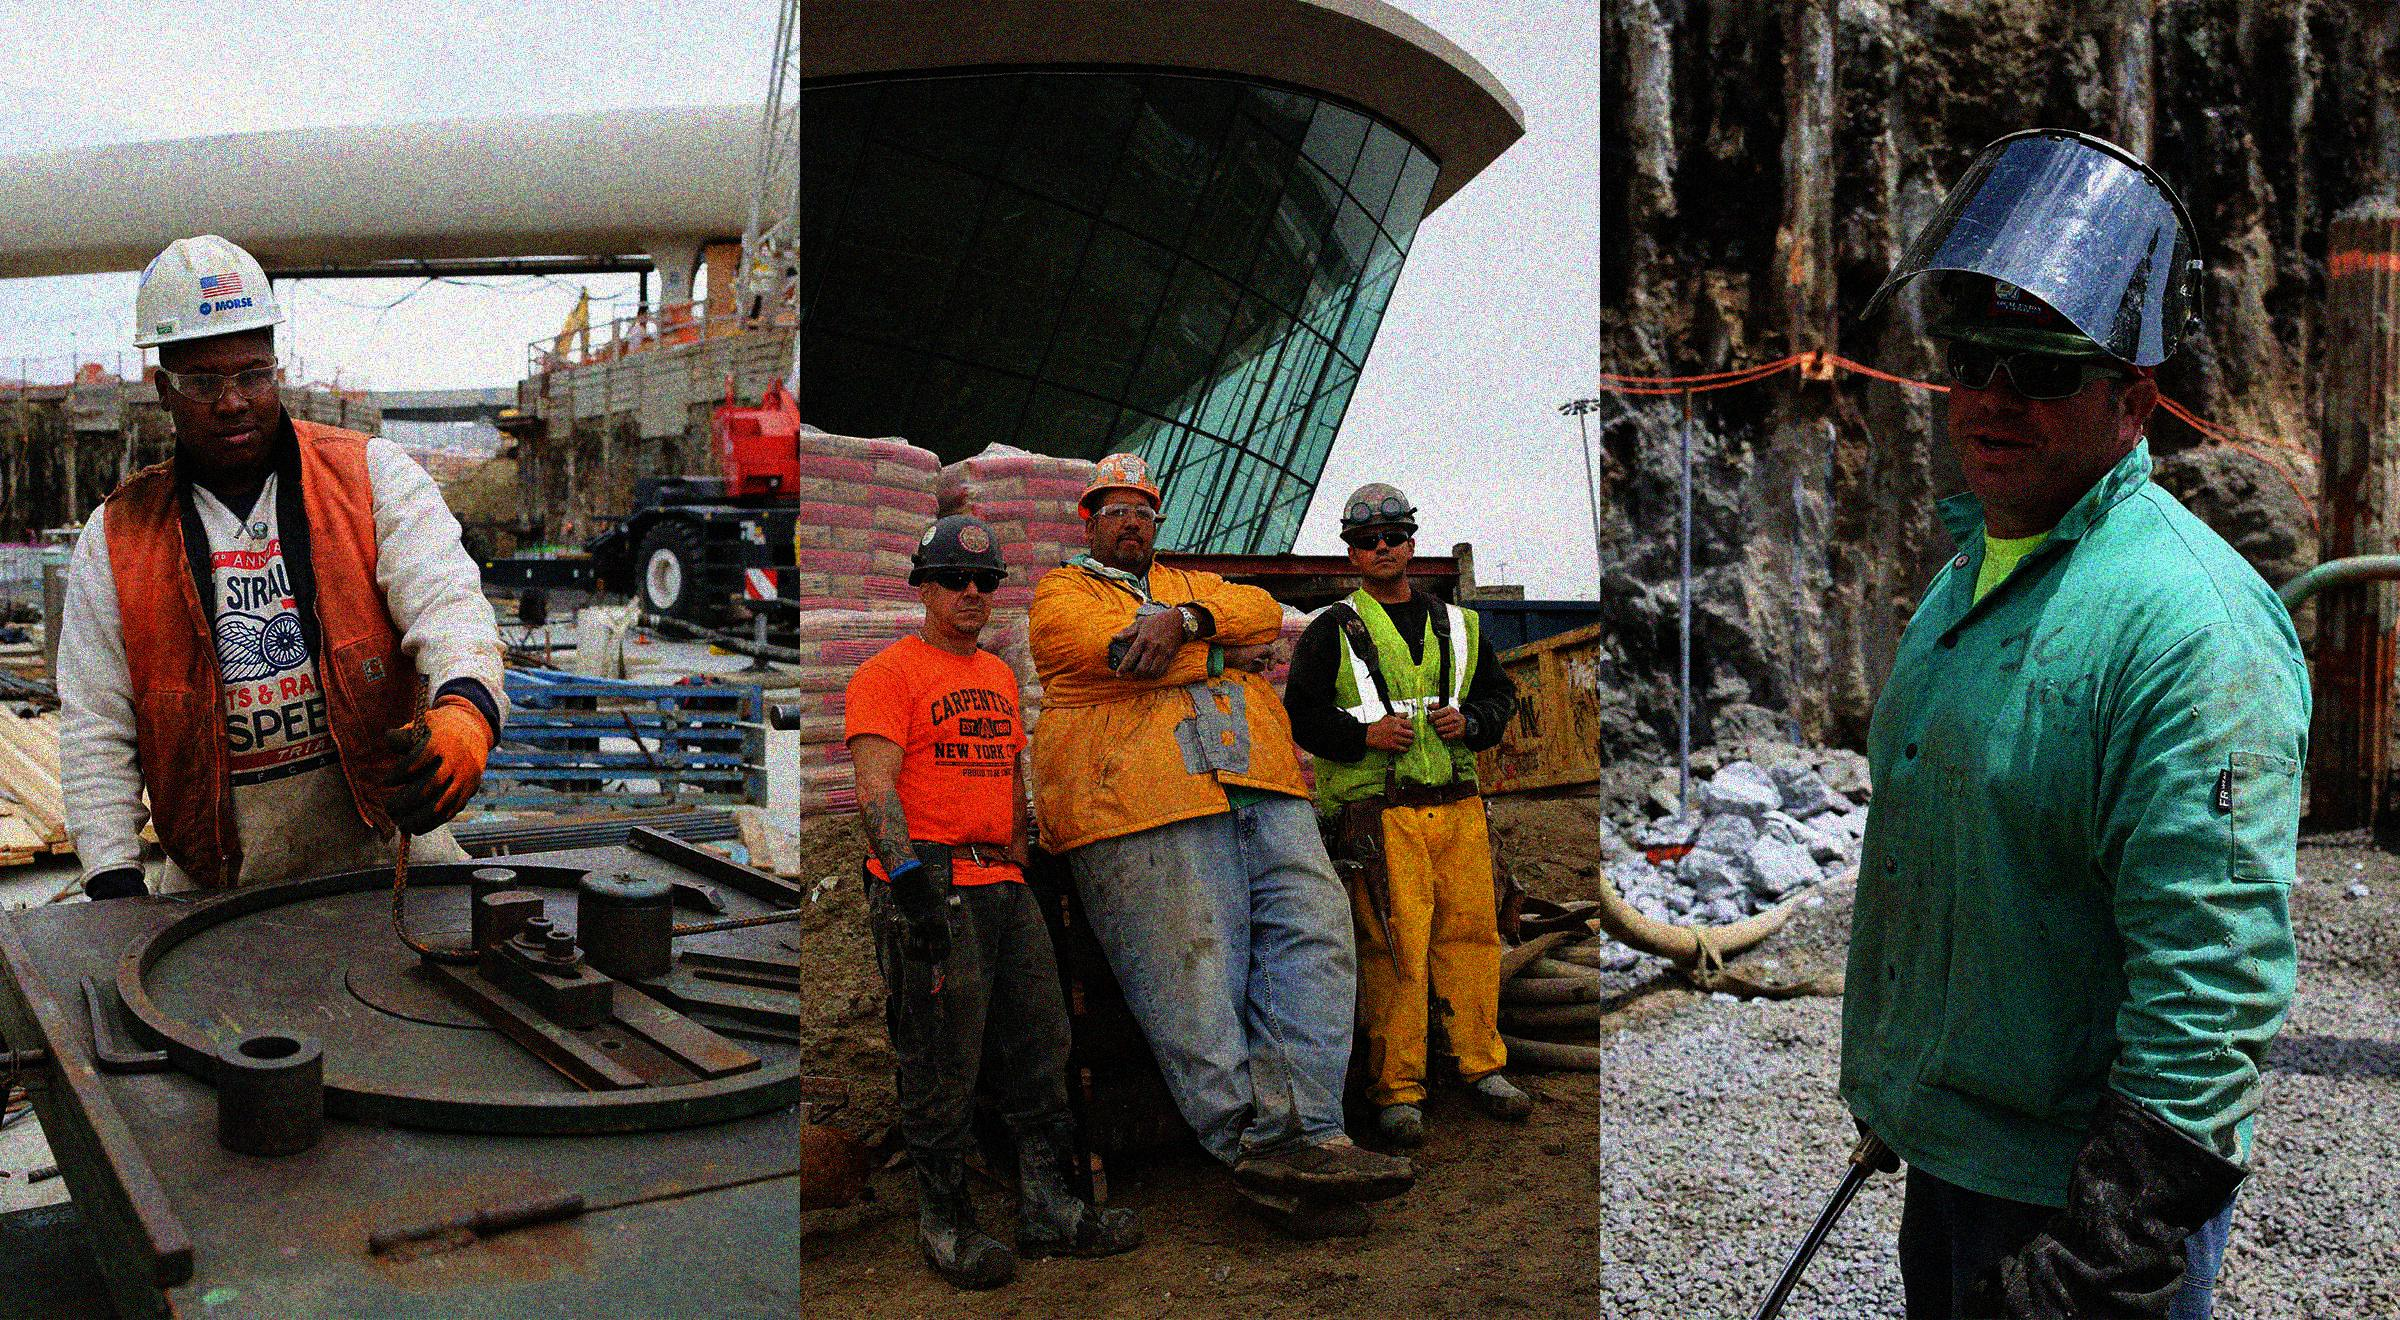helmet: (1926, 184, 2169, 510), (123, 236, 302, 455), (907, 515, 1011, 640), (1072, 445, 1170, 566), (1336, 483, 1423, 580)
